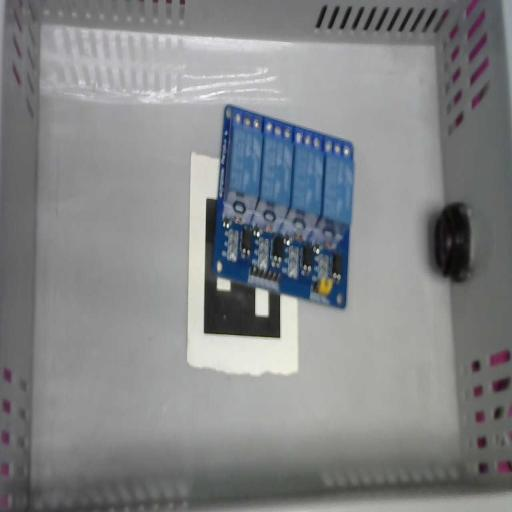relay_module: (212, 103, 355, 312)
